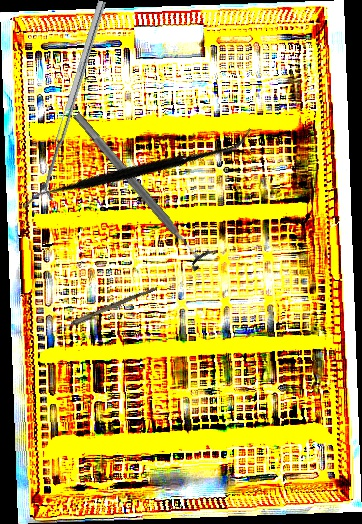Fixation Ring: (65, 104, 217, 273)
Spatula Surgical: (19, 50, 254, 289), (38, 0, 114, 201)
Surgical Spoon: (42, 284, 157, 340)
